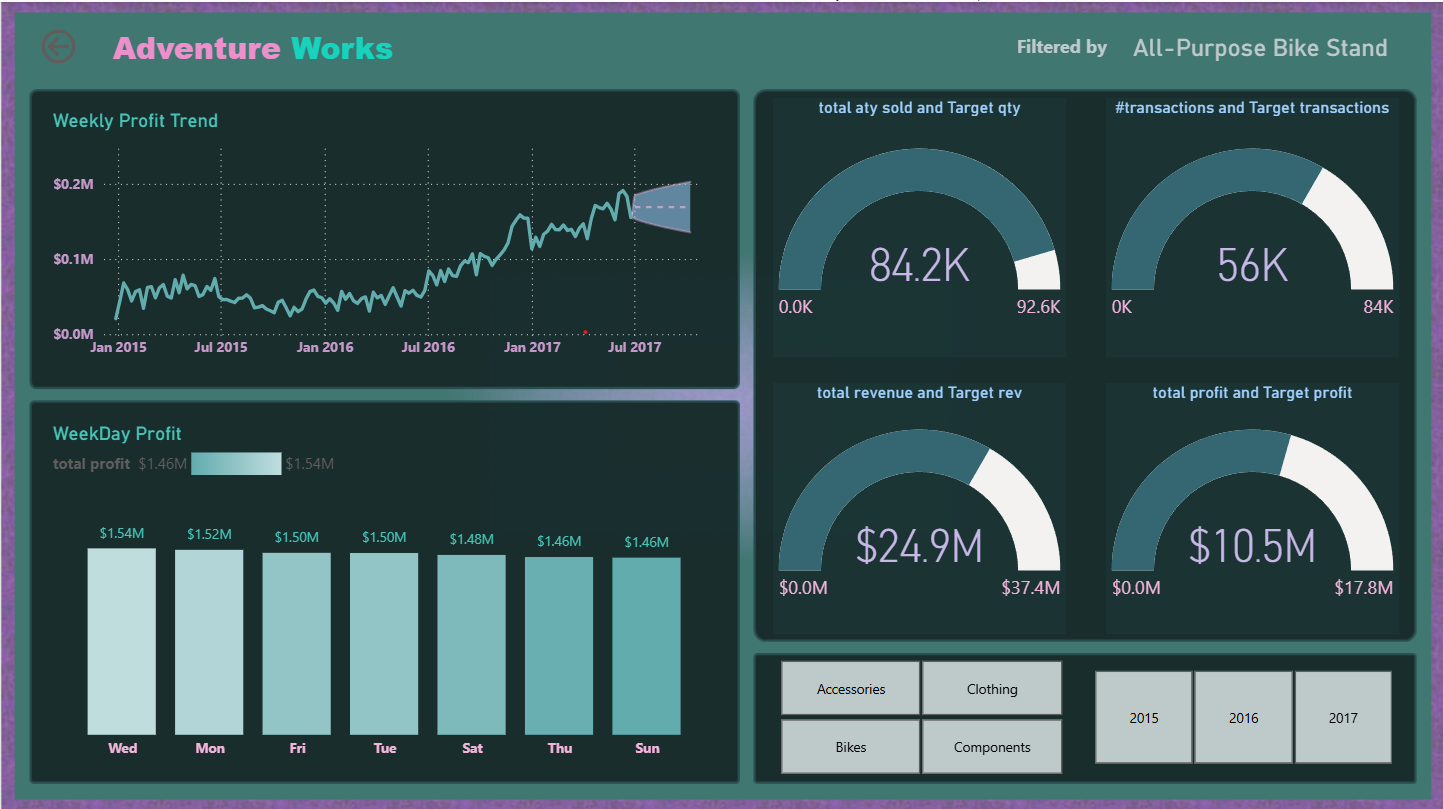

The page's visual inventory and layout, read from the dashboard file:
{"tool":"powerbi","page":{"name":"Forcast","canvas":[1280,720],"ordinal":4},"visuals":[{"type":"lineChart","title":"Weekly Profit Trend","fields":{"Y":["measureTable.total profit"],"Category":["DYNAMIC CALENDER.Start of Week"]},"box":[40.8,94.9,599.4,229.7],"z":0},{"type":"gauge","fields":{"Y":["measureTable.#transactions"],"MaxValue":["previous measures.Target transactions"]},"box":[979.8,85.2,259.8,229.7],"z":1000},{"type":"gauge","fields":{"Y":["measureTable.total revenue"],"MaxValue":["previous measures.Target rev"]},"box":[684.5,337.8,259.8,222.6],"z":2000},{"type":"gauge","fields":{"Y":["measureTable.total aty sold"],"MaxValue":["previous measures.Target qty"]},"box":[684.5,85.2,259.8,229.7],"z":3000},{"type":"gauge","fields":{"Y":["measureTable.total profit"],"MaxValue":["previous measures.Target profit"]},"box":[979.8,337.8,259.8,222.6],"z":4000},{"type":"clusteredColumnChart","title":"WeekDay Profit","fields":{"Y":["measureTable.total profit"],"Category":["DYNAMIC CALENDER.ShortDayName"]},"box":[40.8,372.4,599.4,307.7],"z":5000},{"type":"slicer","fields":{"Values":["DIM_Product_Categories.CategoryName"]},"box":[665.9,577.2,298.8,114.4],"z":6000},{"type":"slicer","fields":{"Values":["DYNAMIC CALENDER.Year"]},"box":[944.3,586.1,313,95.8],"z":7000},{"type":"actionButton","box":[31,19.5,67.4,39.9],"z":8000},{"type":"card","fields":{"Values":["Min(DIMProducts.ProductName)"]},"box":[986.9,8.1,259.7,63.6],"z":9000},{"type":"textbox","box":[895.6,23.1,97.5,33.7],"z":10000},{"type":"textbox","box":[64.7,16.8,317.4,58.5],"z":11000}]}

Visuals, with their boxes in screenshot pixels (x1, y1, x2, y2), scaled from the page's 1280x720 canvas onto the 1443x809 screenshot:
"Weekly Profit Trend" lineChart: bbox=[46, 107, 722, 365]
gauge - measureTable.#transactions x previous measures.Target transactions: bbox=[1105, 96, 1397, 354]
gauge - measureTable.total revenue x previous measures.Target rev: bbox=[772, 380, 1065, 630]
gauge - measureTable.total aty sold x previous measures.Target qty: bbox=[772, 96, 1065, 354]
gauge - measureTable.total profit x previous measures.Target profit: bbox=[1105, 380, 1397, 630]
"WeekDay Profit" clusteredColumnChart: bbox=[46, 418, 722, 764]
slicer - DIM_Product_Categories.CategoryName: bbox=[751, 649, 1088, 777]
slicer - DYNAMIC CALENDER.Year: bbox=[1065, 659, 1417, 766]
actionButton: bbox=[35, 22, 111, 67]
card - Min(DIMProducts.ProductName): bbox=[1113, 9, 1405, 81]
textbox: bbox=[1010, 26, 1120, 64]
textbox: bbox=[73, 19, 431, 85]
